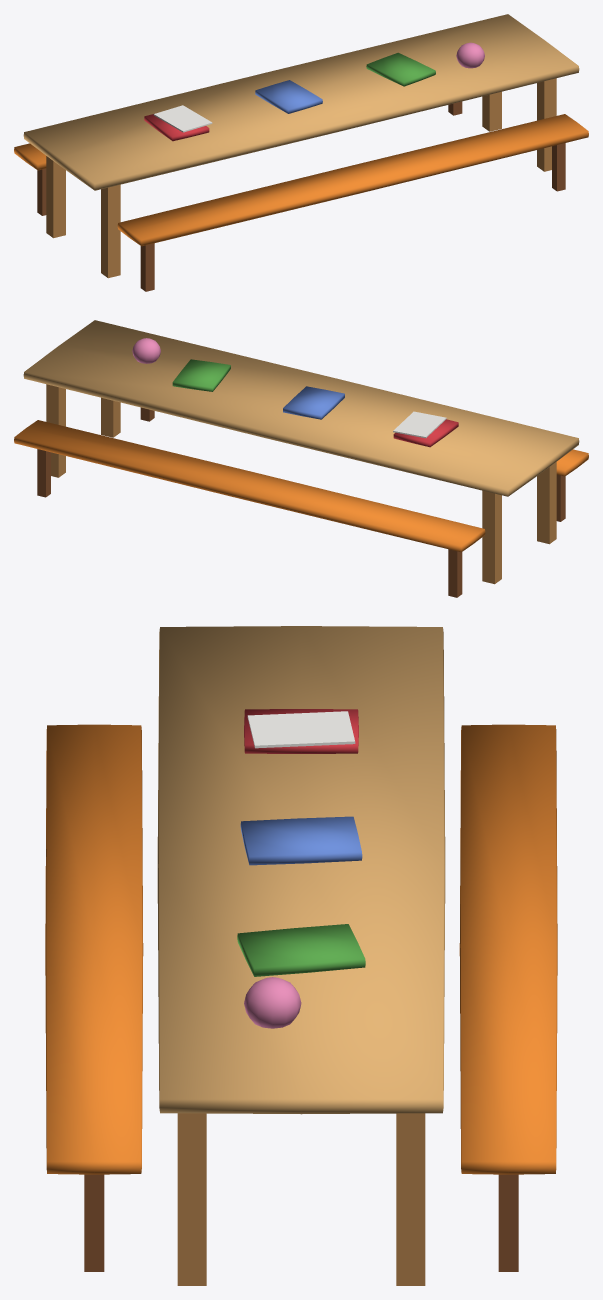
Rendered from reading_table.glb.
3 views of the same model, one above another, from view 1: azimuth 30°, elevation 25°; view 2: azimuth 150°, elevation 25°; view 3: azimuth 270°, elevation 25° (orthographic). The views are drawn at different scales.
Visible parts, largest first — view 1: root; view 2: root; view 3: root.
Boxes of the visible parts, bbox=[...] form: root: bbox=[14, 14, 588, 291]; root: bbox=[14, 320, 588, 597]; root: bbox=[45, 626, 557, 1285].
Bounding box in the file's own units: 3.9 × 0.94 × 1.78.
